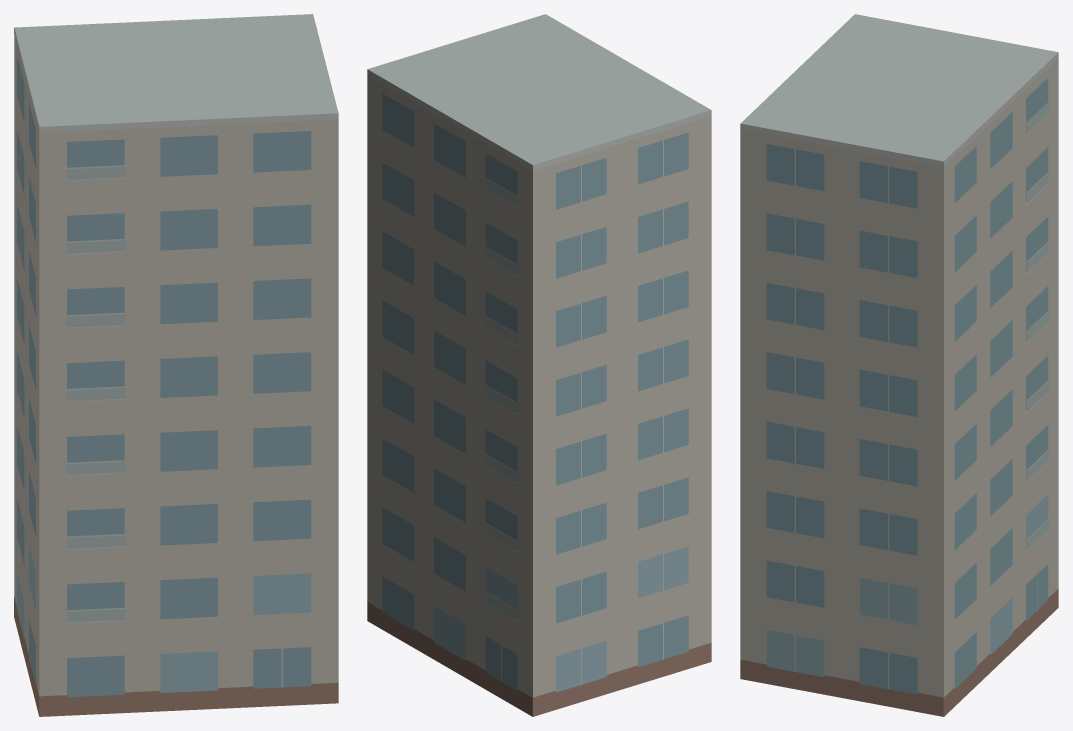
The model's file is survey-upis-32670344.glb.
3 views of the same model, side by side, from view 1: azimuth 30°, elevation 25°; view 2: azimuth 150°, elevation 25°; view 3: azimuth 270°, elevation 25° (orthographic). The views are drawn at different scales.
Visible parts, largest first — view 1: survey-upis-32670344.tmp; view 2: survey-upis-32670344.tmp; view 3: survey-upis-32670344.tmp.
Boxes of the visible parts, box(x1,y1,x2,y2) form: survey-upis-32670344.tmp: box(14, 14, 338, 716); survey-upis-32670344.tmp: box(367, 14, 711, 716); survey-upis-32670344.tmp: box(740, 14, 1058, 716).
Bounding box in the file's own units: 13.22 × 23.2 × 12.06.
